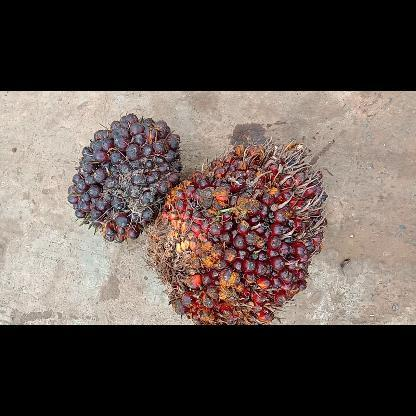TBS masak: (144, 138, 326, 324)
TBS mentah: (67, 112, 182, 242)
